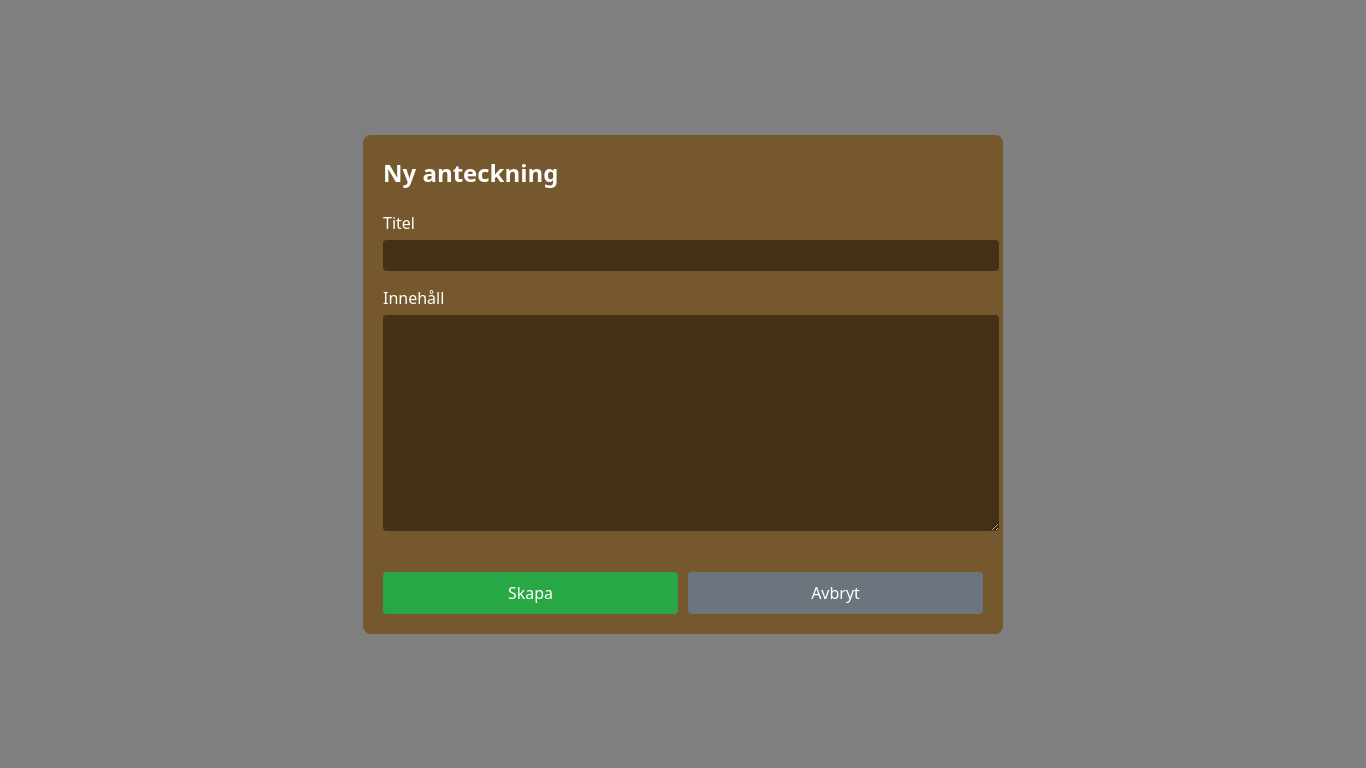
Test: NoteModal › handles API errors
Note: Fill in the form
Type "New Note" into the field labelled "Titel". click: (691, 255)
box: top-left (383, 240), bottom-right (999, 270)
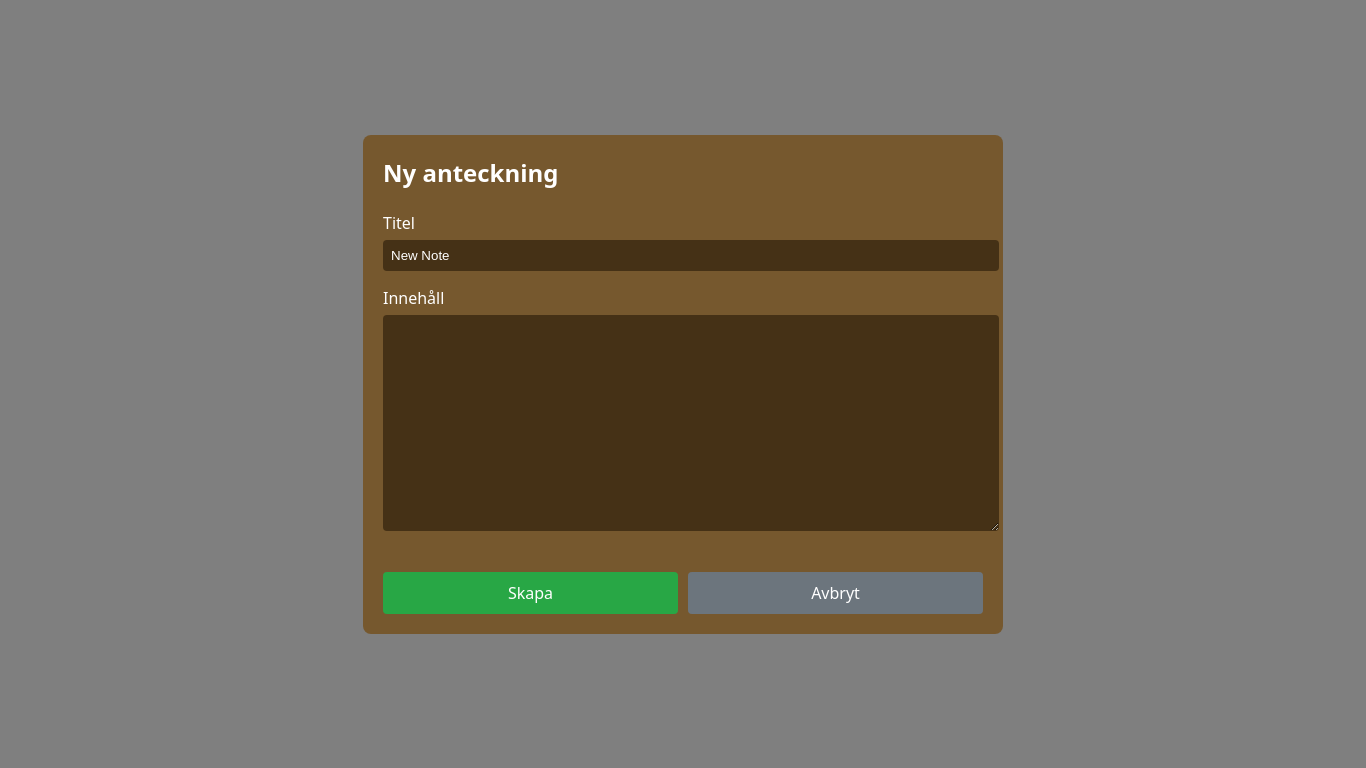
Type "New Content" into the text box labelled "Innehåll". click: (691, 422)
box: top-left (383, 314), bottom-right (999, 530)
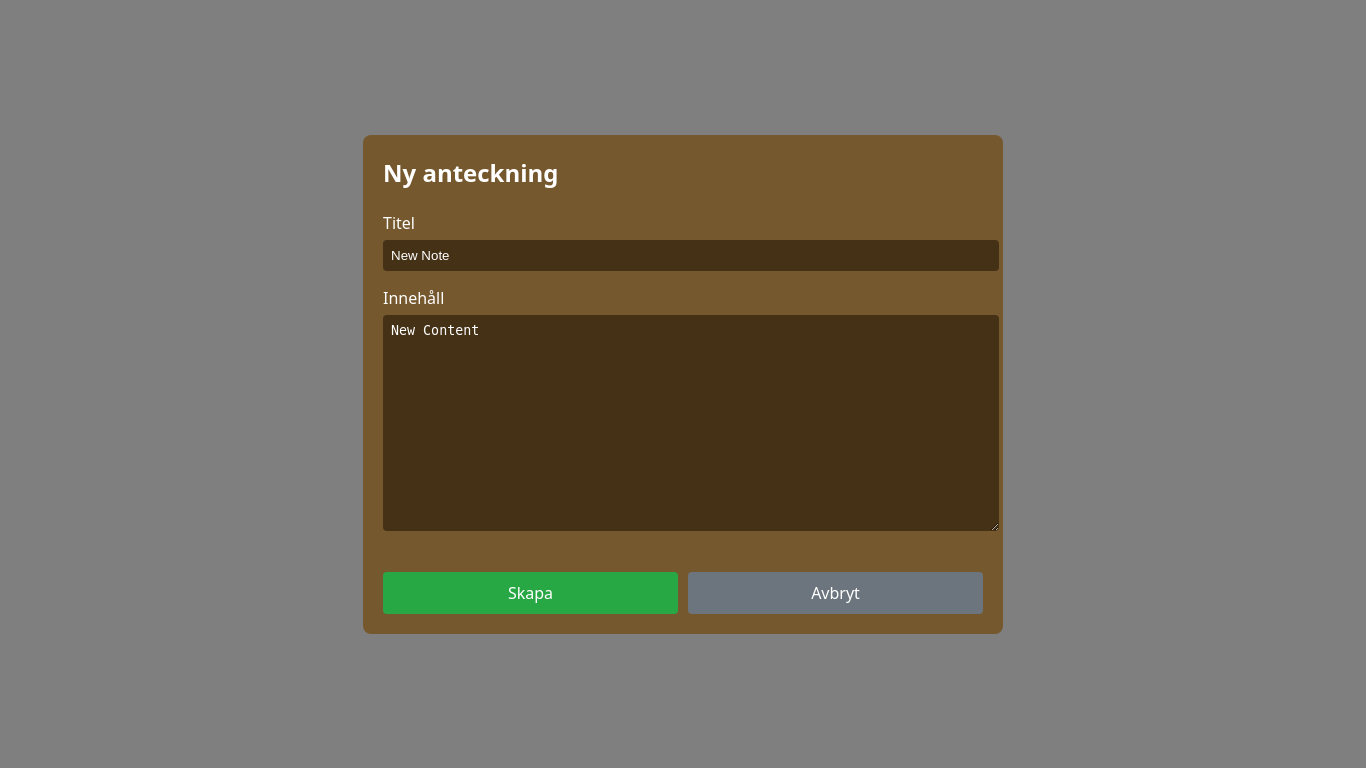
Note: Submit the form
Click the button "Skapa". click: (530, 592)
box: top-left (383, 572), bottom-right (678, 614)
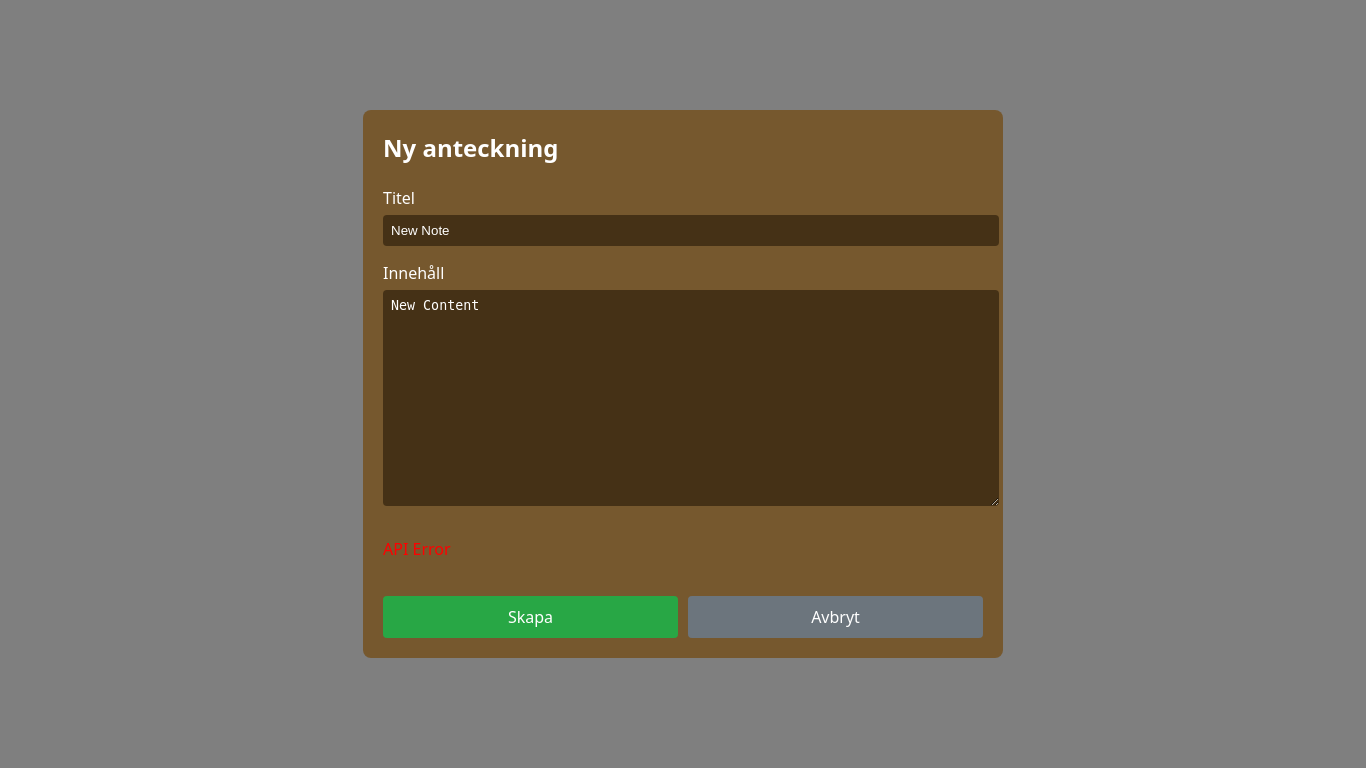
Expected: the text "API Error" is shown, top-left (383, 538), bottom-right (451, 560)
